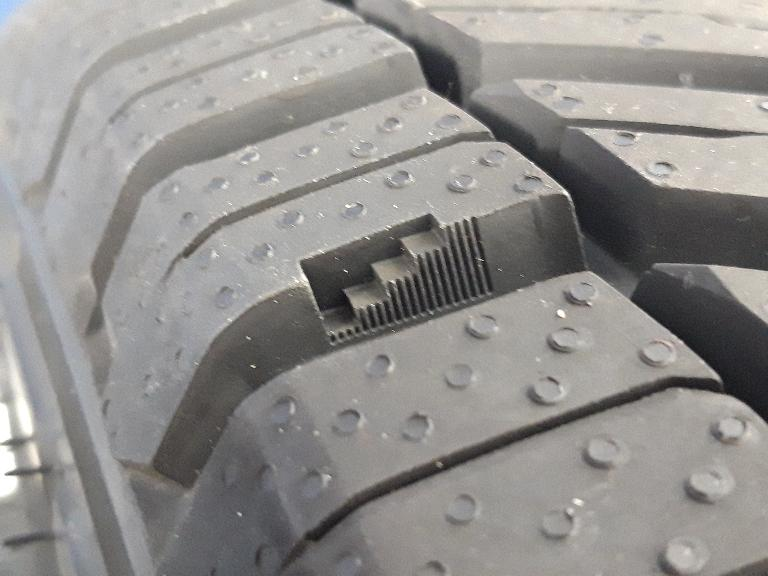temoin:100: (287, 204, 505, 354)
